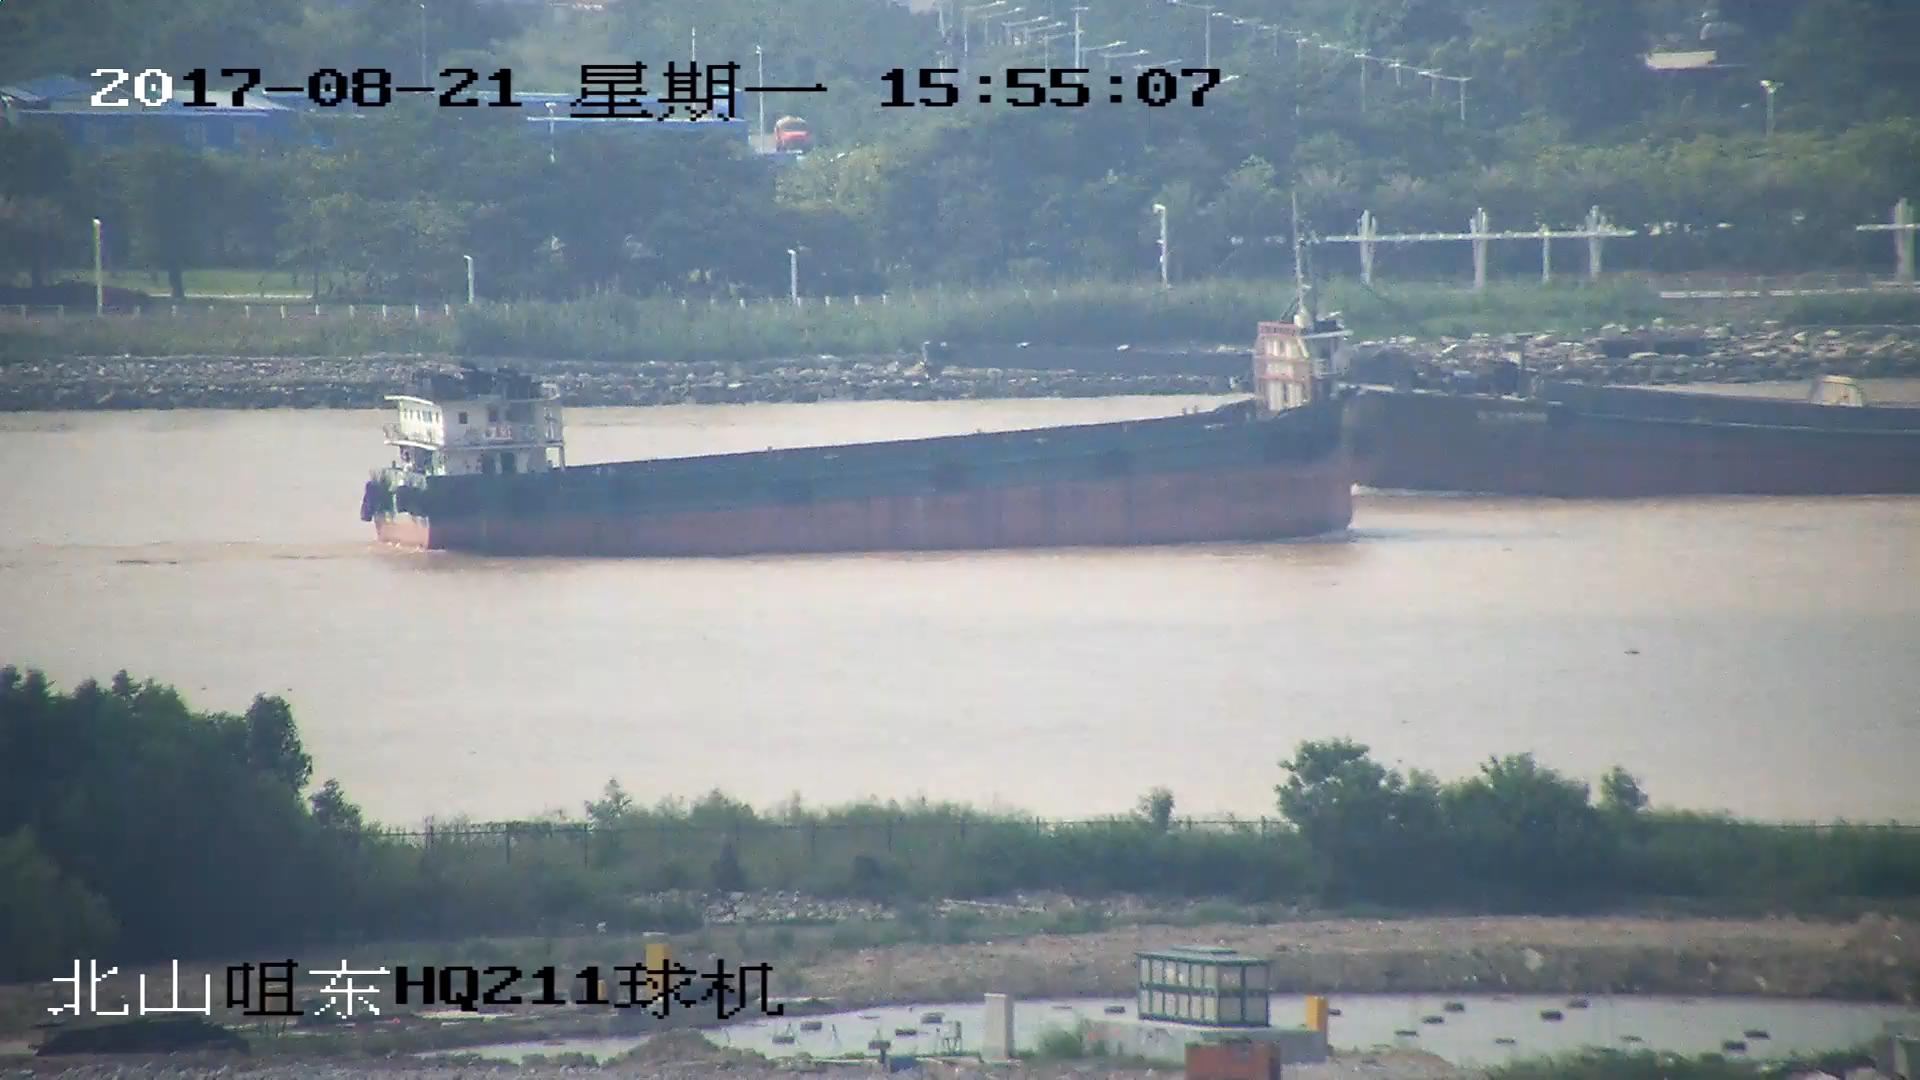bulk cargo carrier: (931, 278, 1920, 497)
general cargo ship: (361, 301, 1357, 556)
